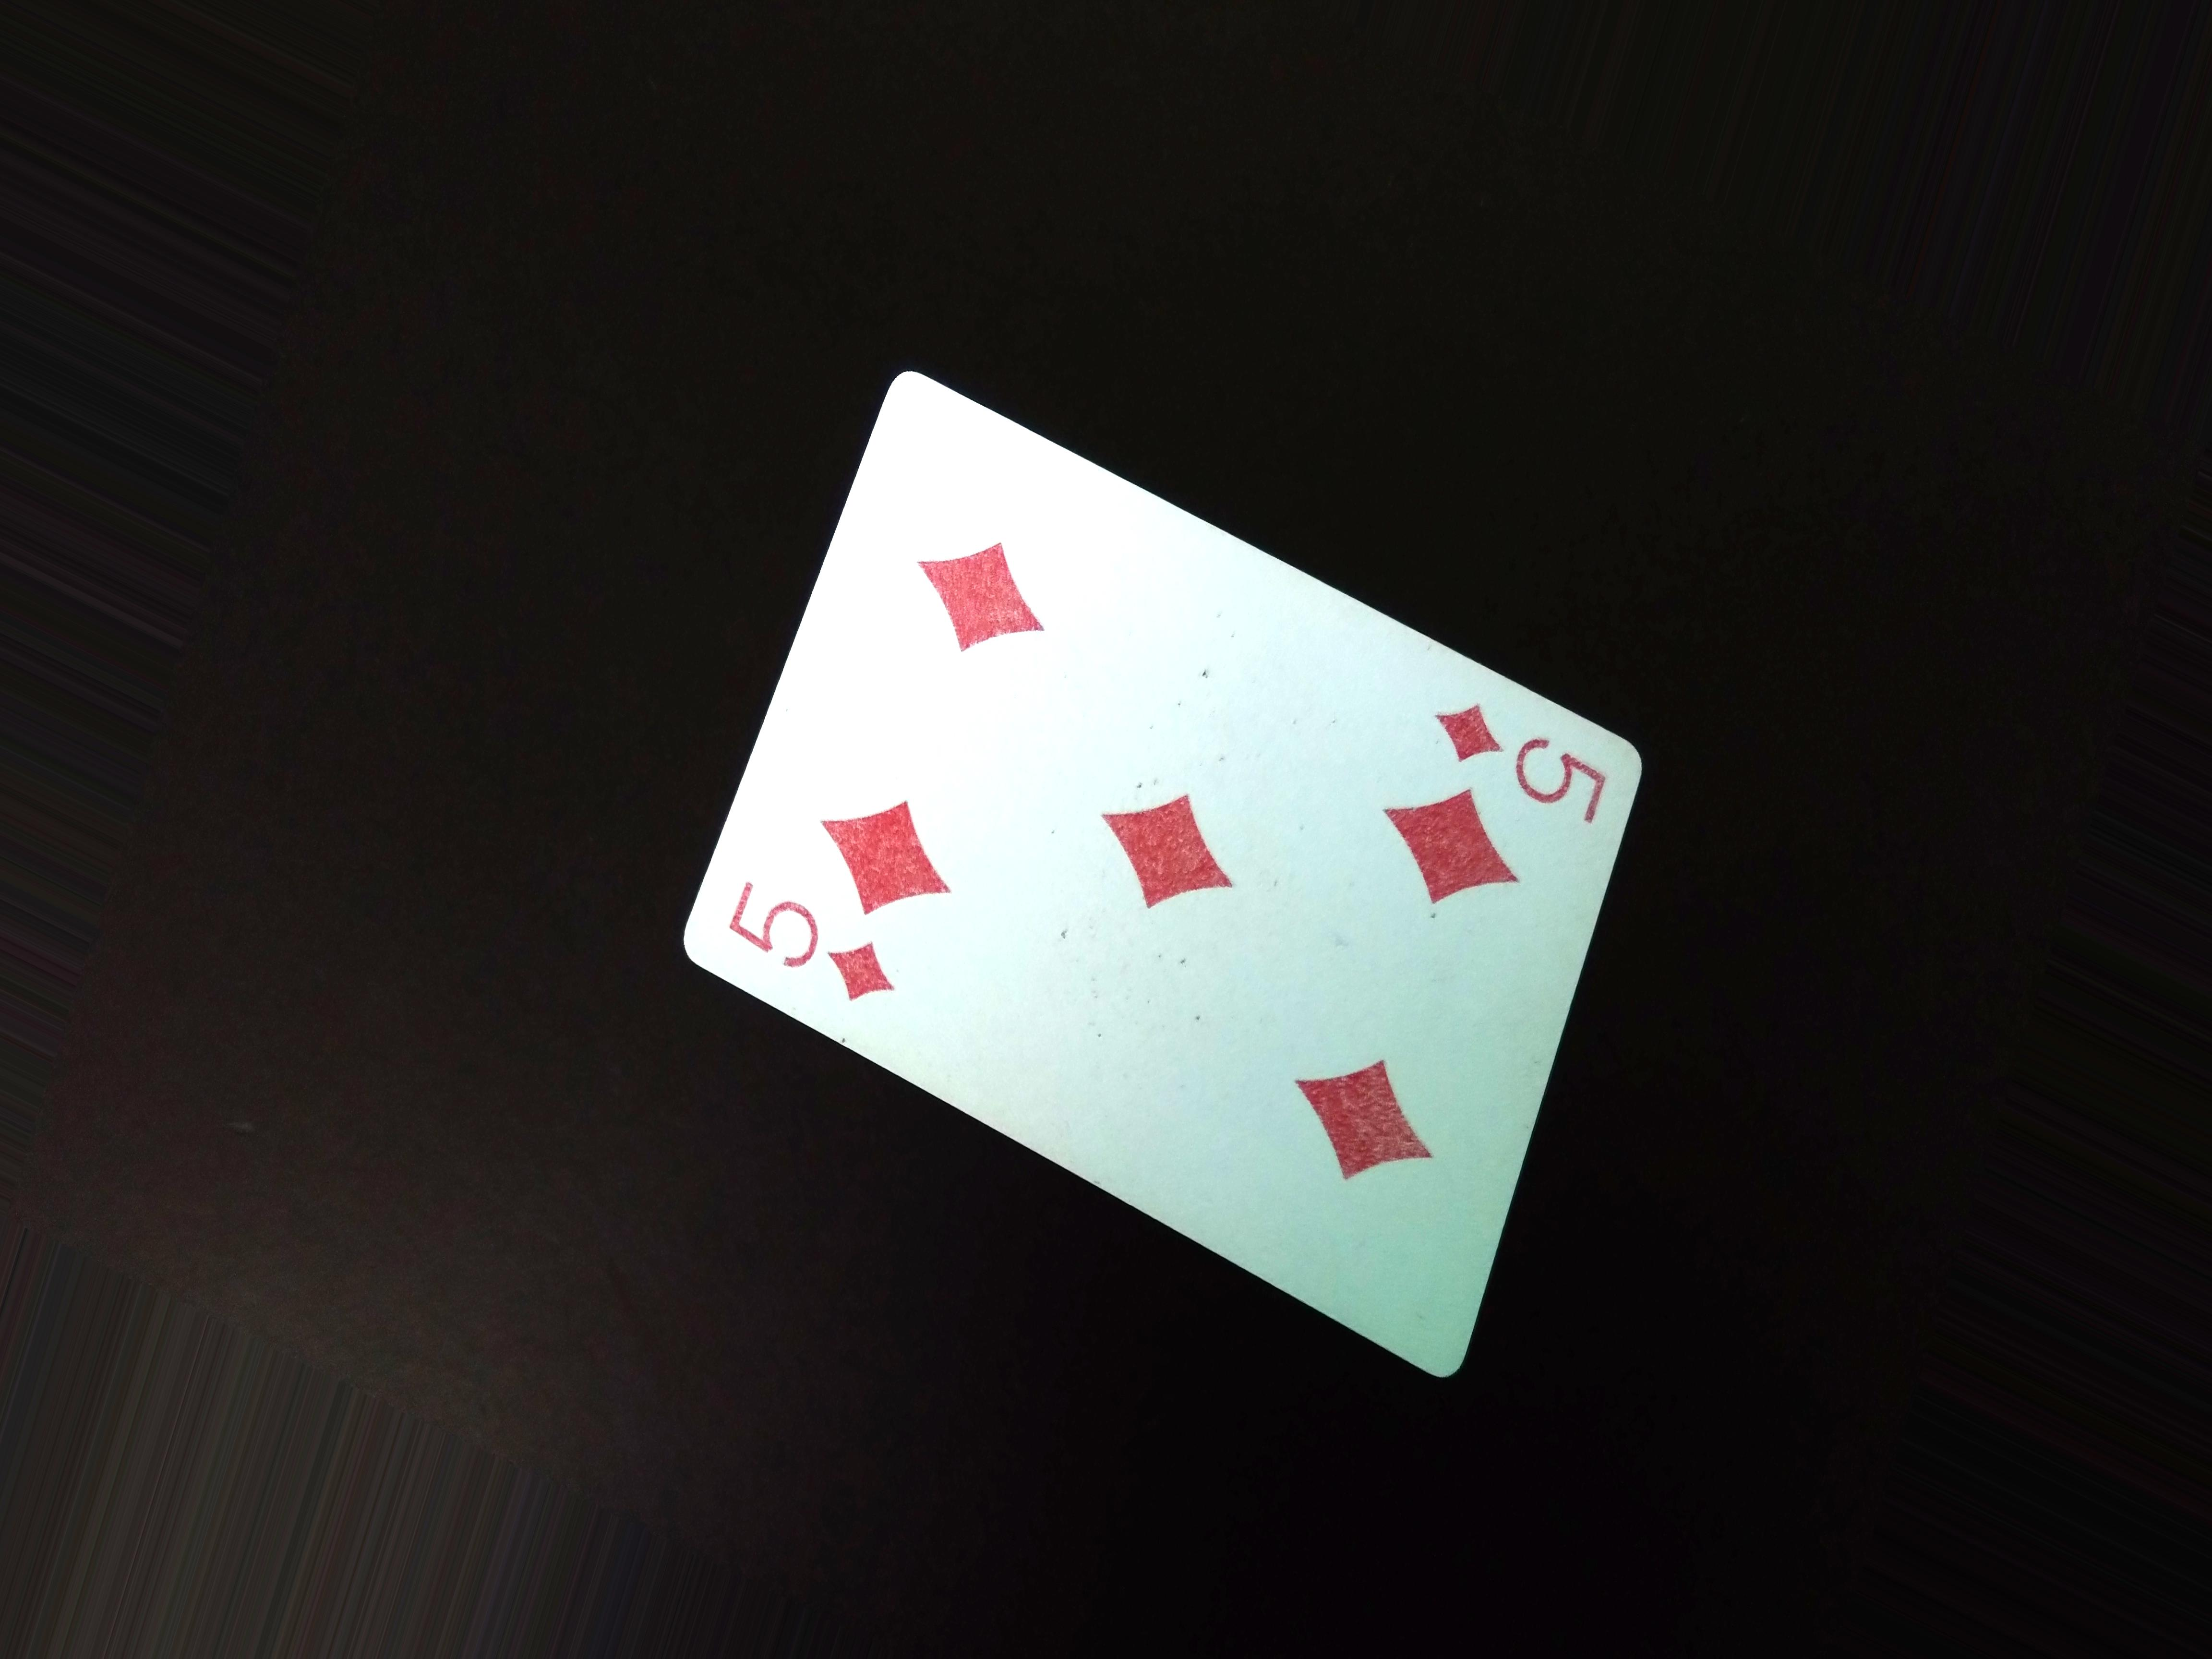5D: (705, 870, 925, 1012)
